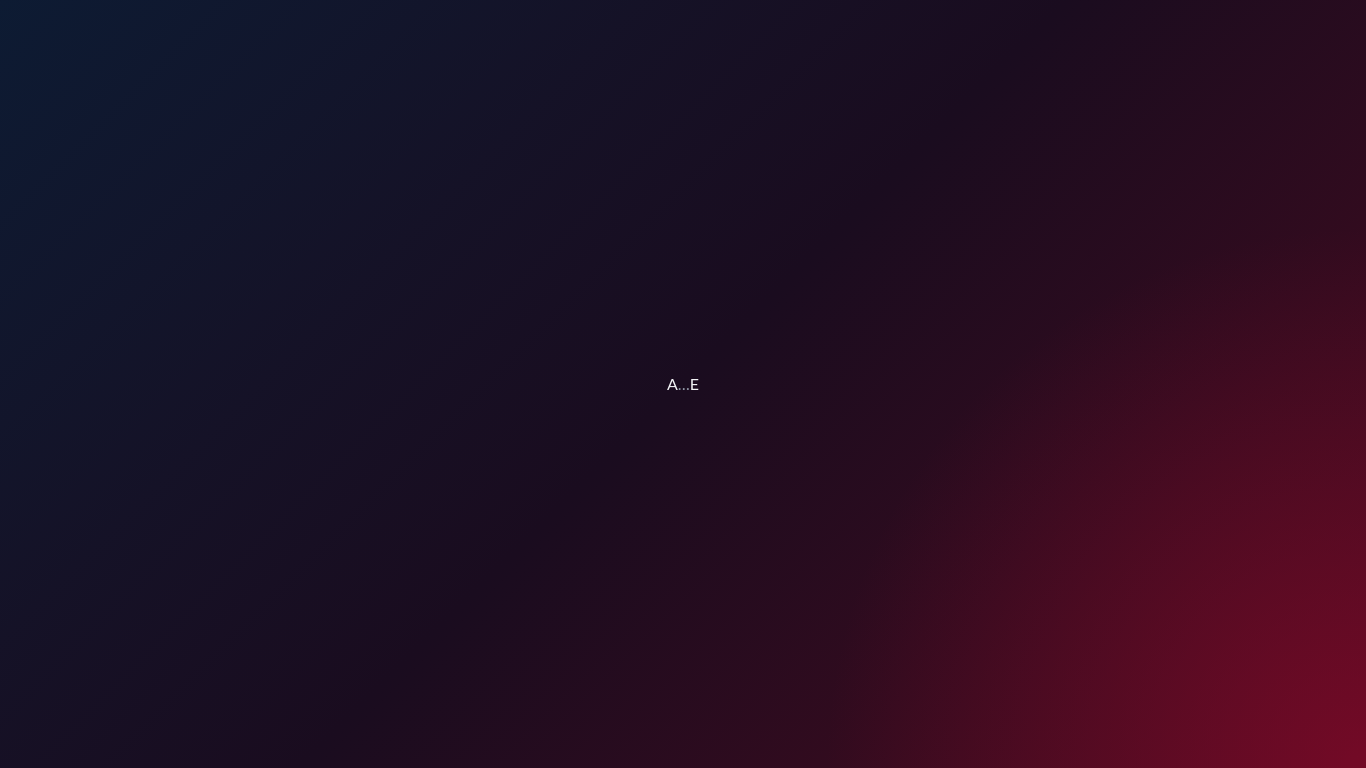
Test case: calendar & charts › Breadcrumb collapses and expands middle levels
The image size is (1366, 768).
Expected: the text "B" is not shown
Click the button named "hidden levels": click(684, 384) [678, 371, 690, 397]
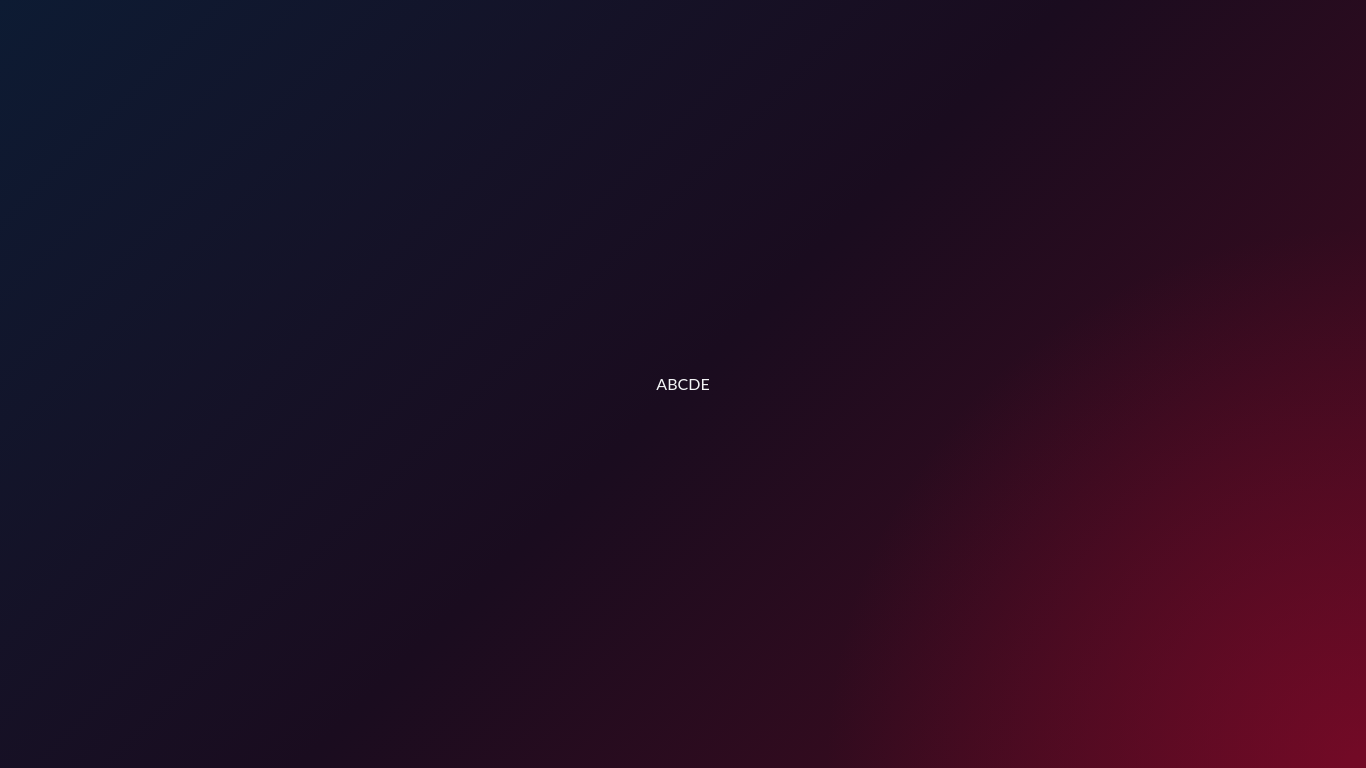
Now the text "B" is shown, box [667, 374, 678, 393]
